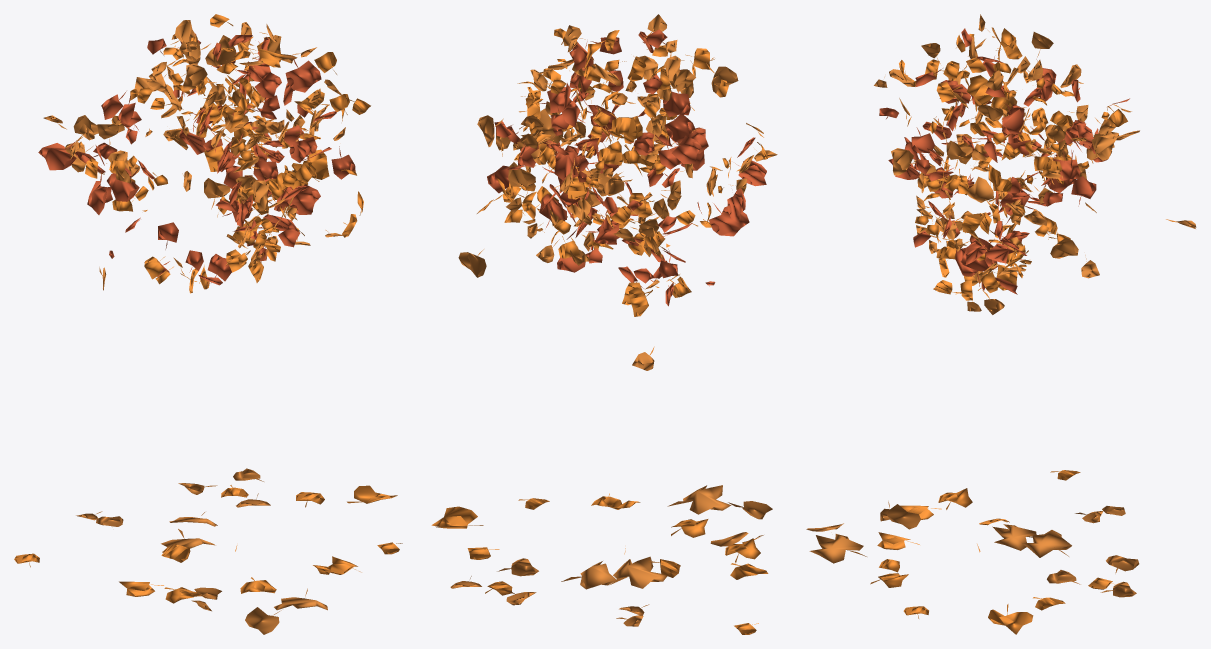
The model's file is caycc.fbx.
3 views of the same model, side by side, from view 1: azimuth 30°, elevation 25°; view 2: azimuth 150°, elevation 25°; view 3: azimuth 270°, elevation 25° (orthographic). The views are drawn at different scales.
Parts seen in each view (by area): view 1: red; view 2: red; view 3: red.
Boxes of the visible parts, x1,y1,x2,y2 form: red: (14, 14, 402, 634); red: (431, 14, 777, 634); red: (806, 14, 1196, 634).
Bounding box in the file's own units: 66.63 × 98.25 × 66.19.
